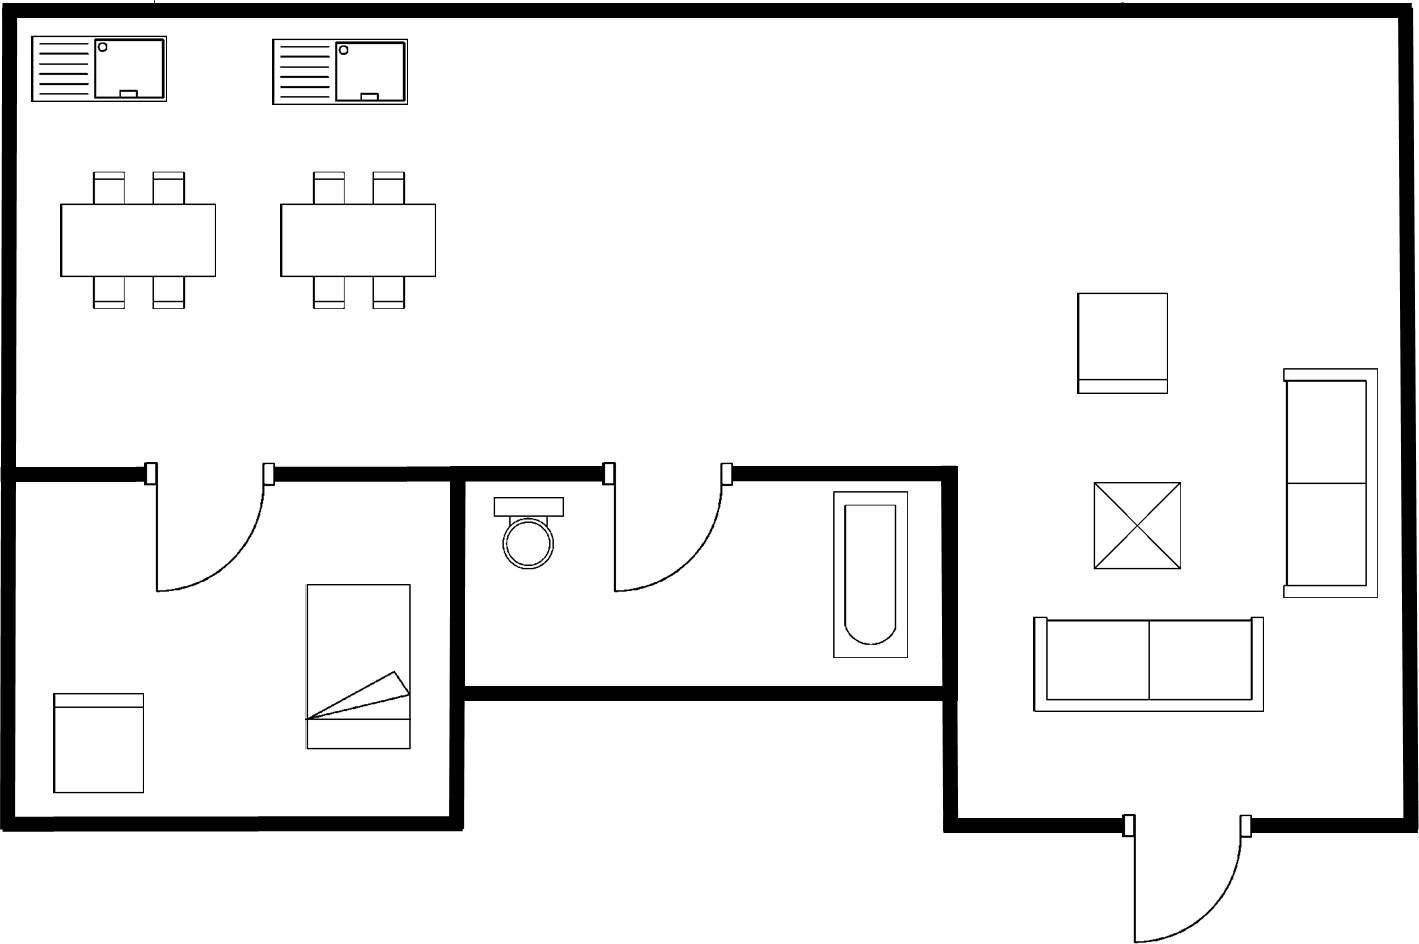bed: (299, 579, 416, 754)
dining_table: (275, 165, 442, 315), (55, 165, 220, 313)
sink: (265, 32, 412, 111), (26, 29, 170, 105)
sofa: (1025, 612, 1268, 715), (1279, 362, 1383, 602)
toilet: (488, 492, 569, 574)
tub: (828, 486, 911, 662)
